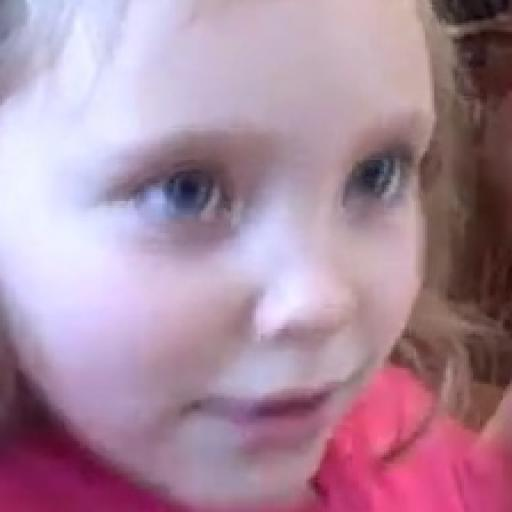Autism: (6, 4, 452, 512)
